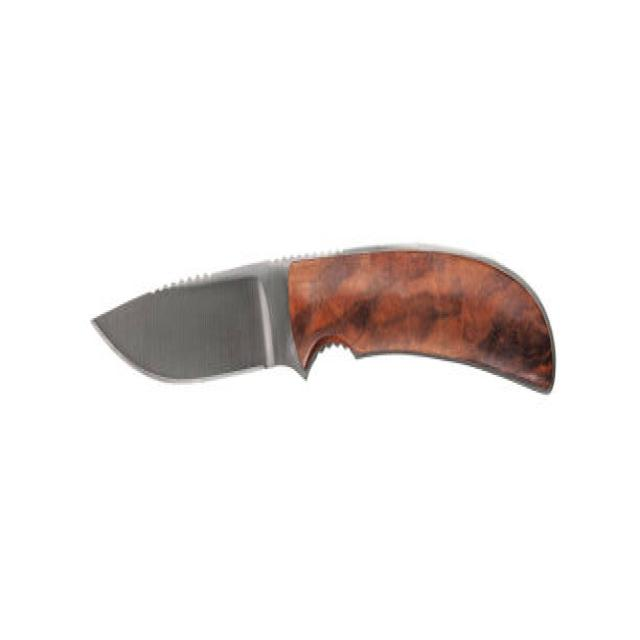knife: (88, 241, 559, 400)
